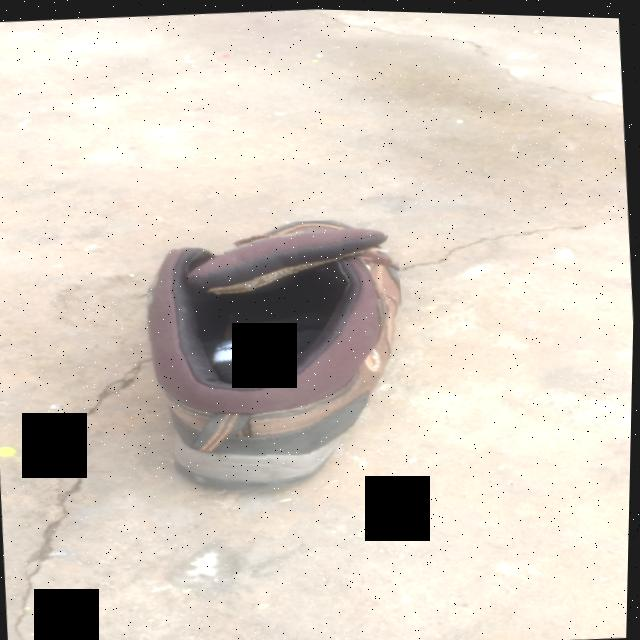shoe: (133, 208, 416, 503)
